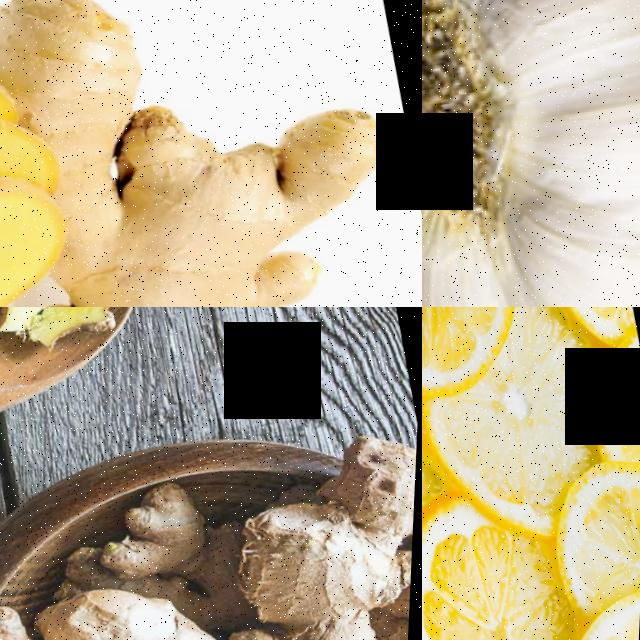garlic: (422, 0, 640, 307)
ginger: (0, 0, 422, 307), (214, 404, 420, 640), (35, 553, 269, 640), (92, 464, 233, 593), (0, 307, 140, 359), (0, 589, 89, 640)
lemon: (422, 489, 577, 640)
